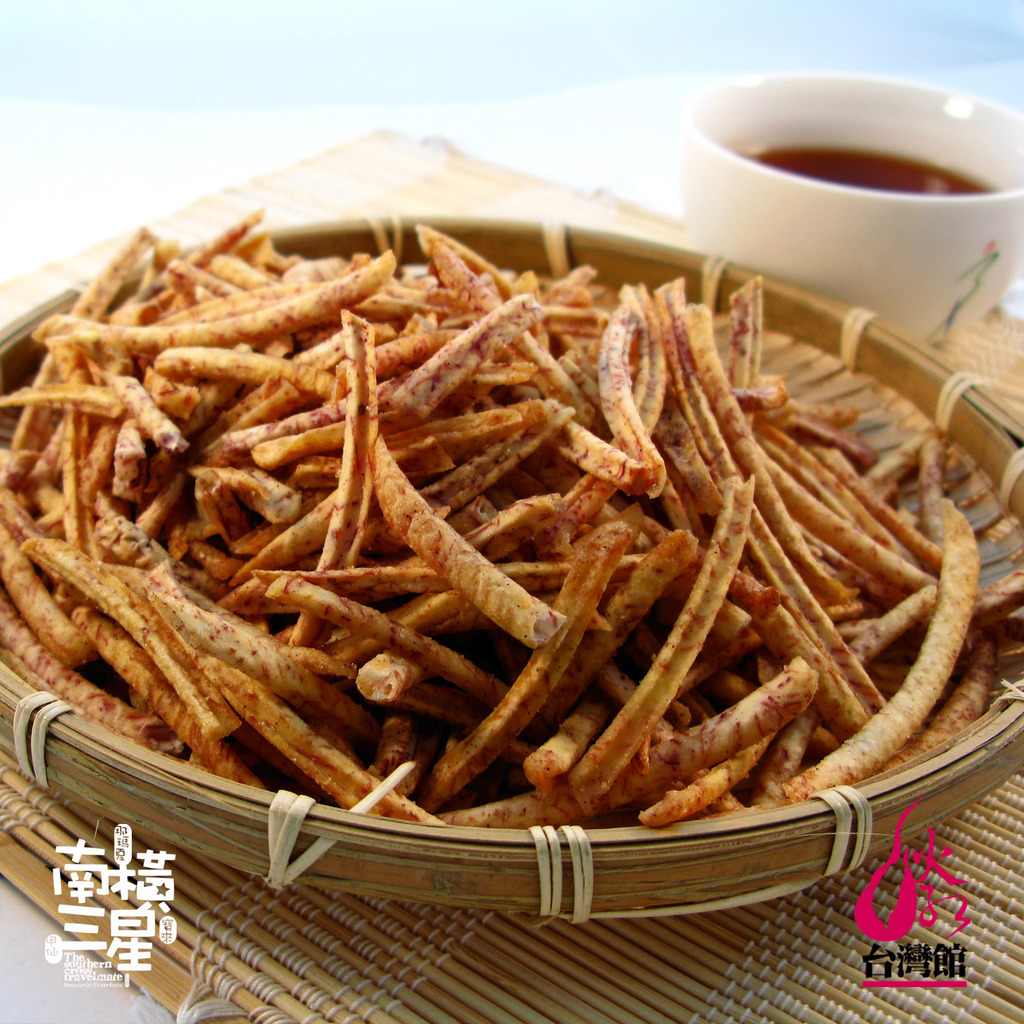French fries: (0, 163, 922, 801)
